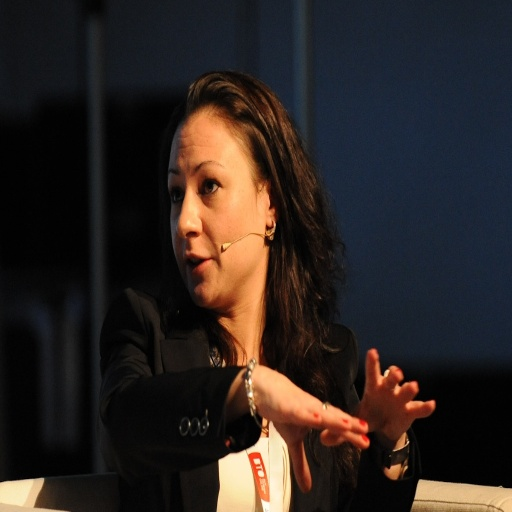hand: (255, 365, 370, 493), (337, 360, 426, 459)
